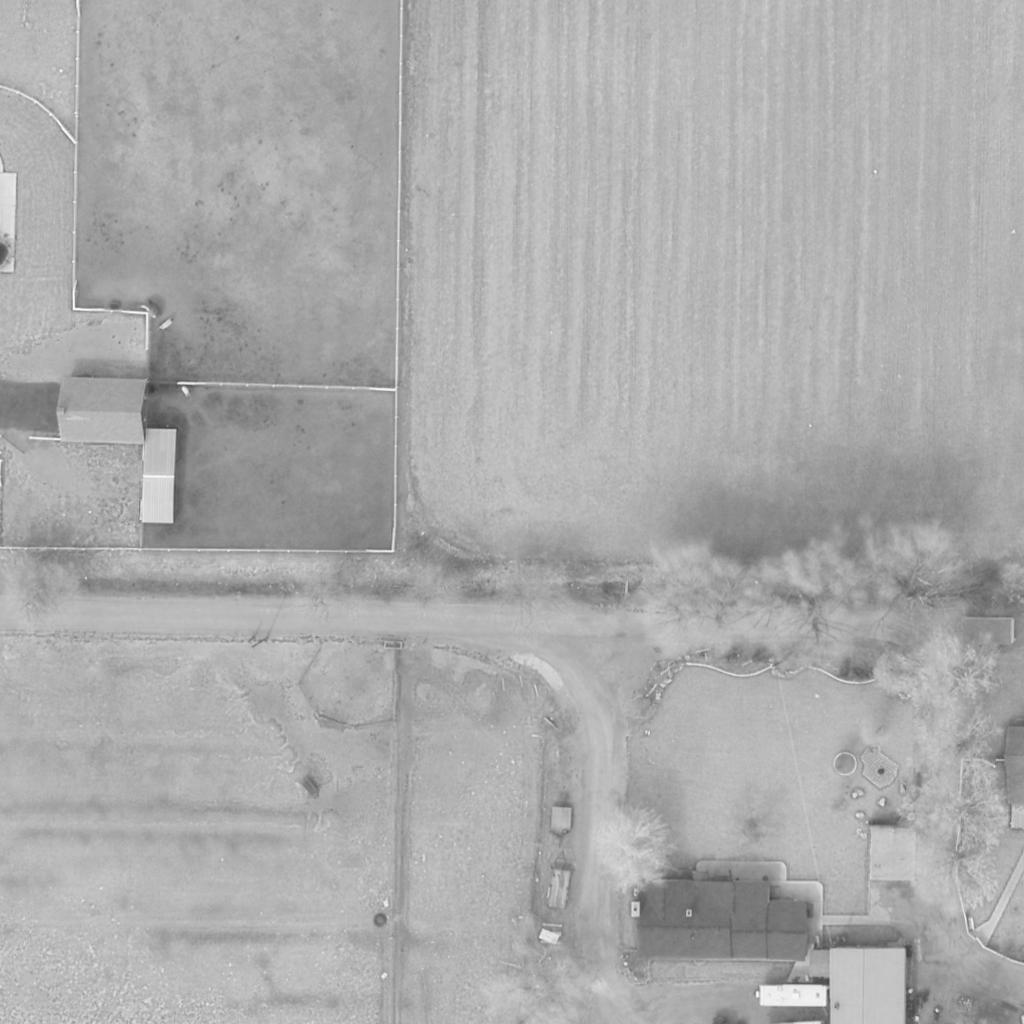vehicle: (757, 987, 829, 1005)
